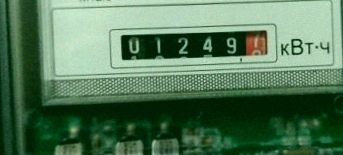0: (127, 34, 140, 54)
1: (152, 34, 162, 53)
2: (176, 35, 189, 55)
4: (201, 34, 212, 53)
7: (249, 29, 261, 48)
9: (224, 34, 237, 55)
screen: (101, 21, 276, 68)
